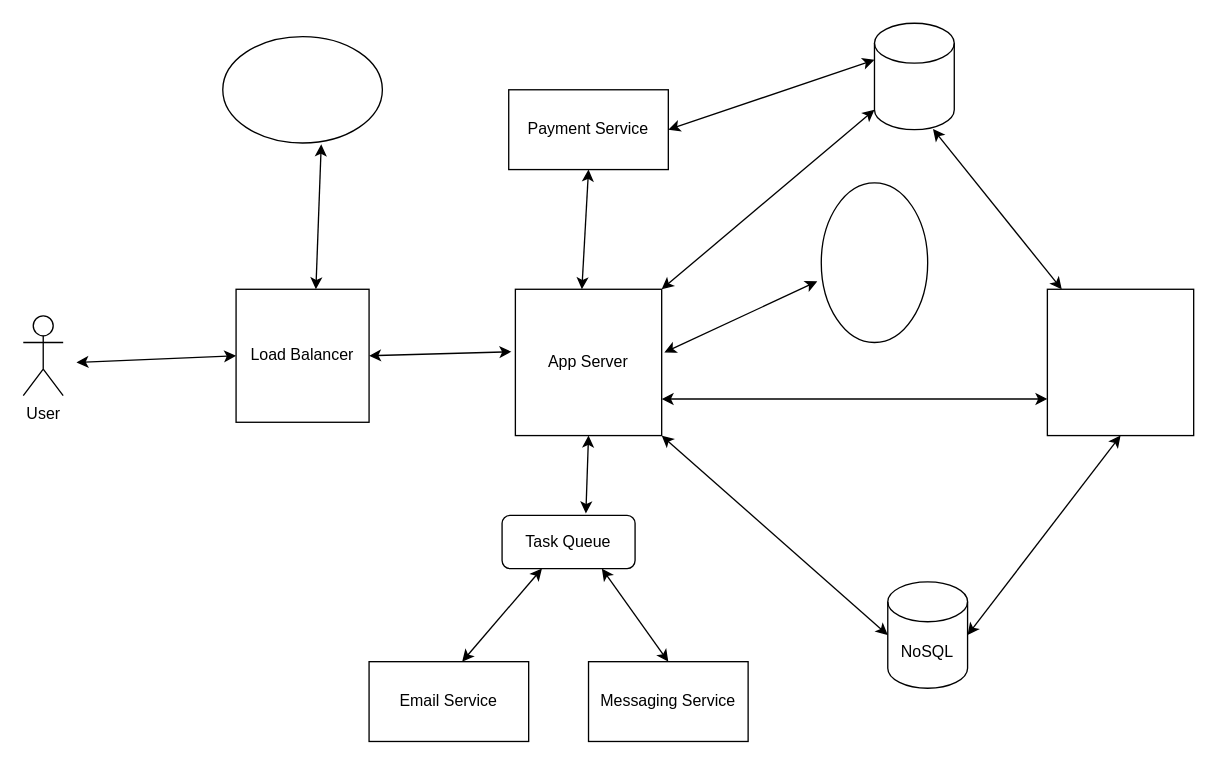
The diagram is 1217 pixels wide and 765 high, and some of its shapes have lost their labels. The centre of each missing label's shape, as x and y in pixels:
Cache: (x=874, y=262)
CDN: (x=301, y=89)
RDBMS: (x=913, y=76)
Recommendation Engine: (x=1120, y=362)
